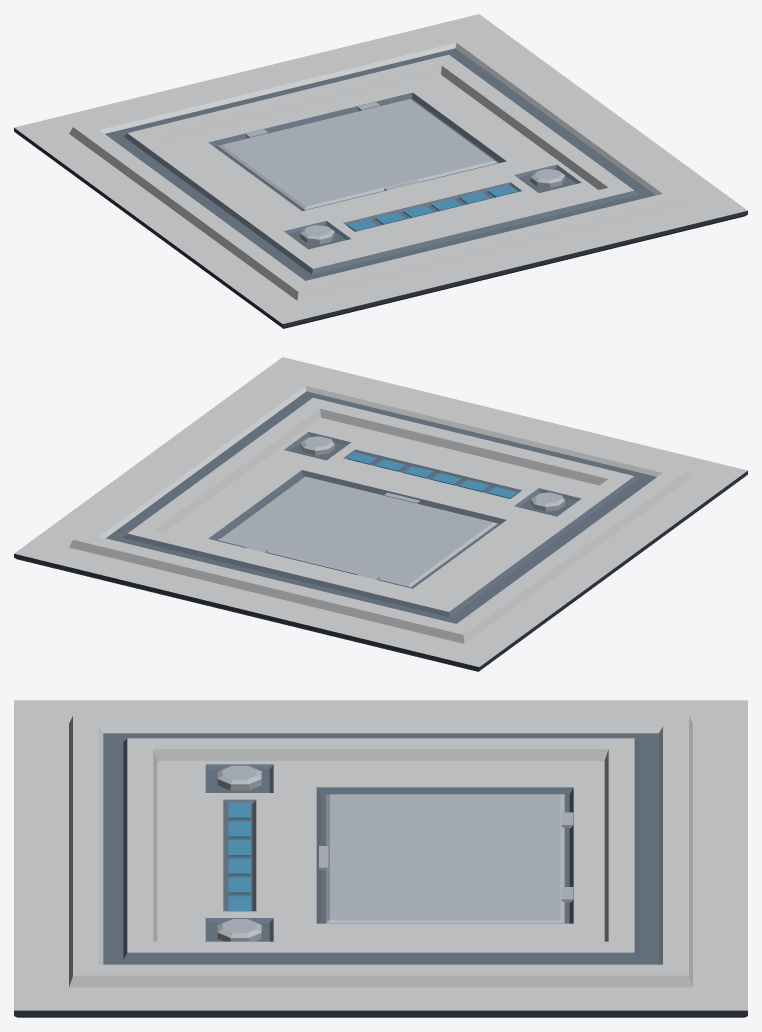
Rendered from service-deck-tile-456dec.glb.
The picture shows the model from 3 angles, top to bottom: view 1: azimuth 30°, elevation 25°; view 2: azimuth 150°, elevation 25°; view 3: azimuth 270°, elevation 25°; orthographic projection. The views are drawn at different scales.
Visible parts, largest first — view 1: service-deck-tile-deck, hatch-lid-plate; view 2: service-deck-tile-deck, hatch-lid-plate; view 3: service-deck-tile-deck, hatch-lid-plate.
Part boxes in pixels (bbox=[...]): service-deck-tile-deck: bbox=[14, 14, 747, 328]; hatch-lid-plate: bbox=[217, 99, 497, 210]; service-deck-tile-deck: bbox=[14, 357, 747, 671]; hatch-lid-plate: bbox=[217, 476, 497, 587]; service-deck-tile-deck: bbox=[14, 700, 747, 1017]; hatch-lid-plate: bbox=[319, 794, 564, 923].
Bounding box in the file's own units: 4 × 0.11 × 4.
